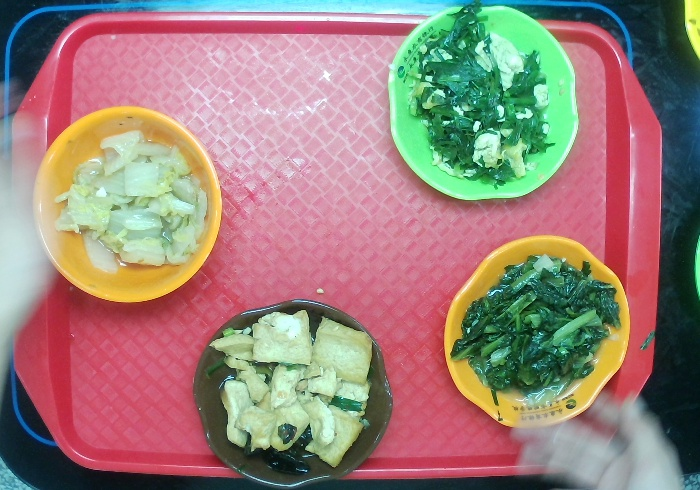YKMZ-Ju_Se_Ao_Bian_Wan: (439, 235, 631, 428)
YKMZ-Ju_Se_Yuan_Wan: (31, 106, 222, 303)
YKMZ-Ka_Fei_Ao_Bian_Wan: (190, 296, 395, 489)
YKMZ-Lv_Se_Ao_Bian_Wan: (385, 3, 582, 204)
